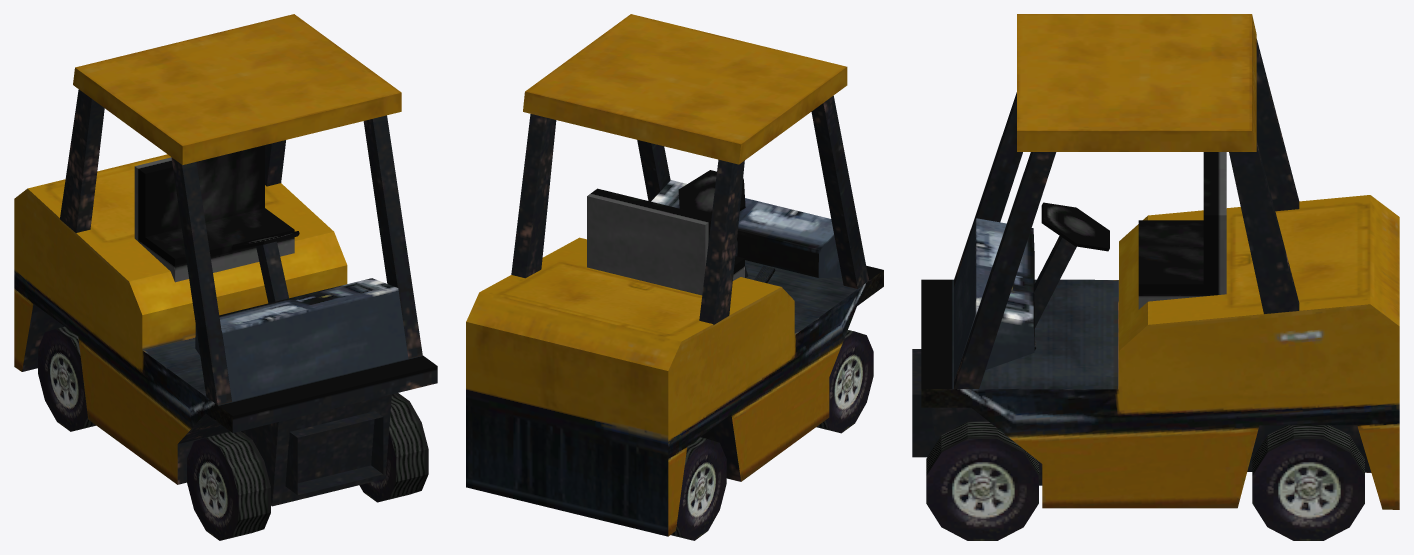
The model's file is forklift.obj.
3 views of the same model, side by side, from view 1: azimuth 30°, elevation 25°; view 2: azimuth 150°, elevation 25°; view 3: azimuth 270°, elevation 25° (orthographic). The views are drawn at different scales.
Visible parts, largest first — view 1: VEHICLE_Forklift; view 2: VEHICLE_Forklift; view 3: VEHICLE_Forklift.
Boxes of the visible parts, <box> form: VEHICLE_Forklift: <box>14,14,437,540</box>; VEHICLE_Forklift: <box>466,14,883,540</box>; VEHICLE_Forklift: <box>912,14,1399,540</box>.
Size of the model in its own units: 1.35 by 2.25 by 2.37.
